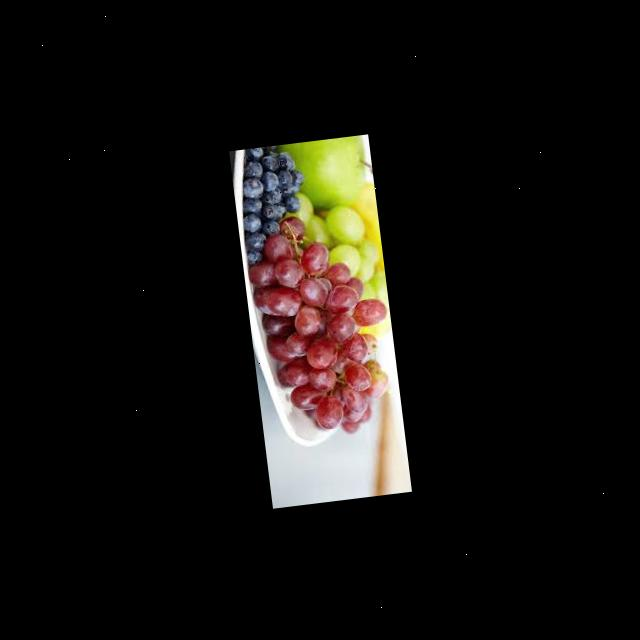grape: (243, 204, 402, 443)
